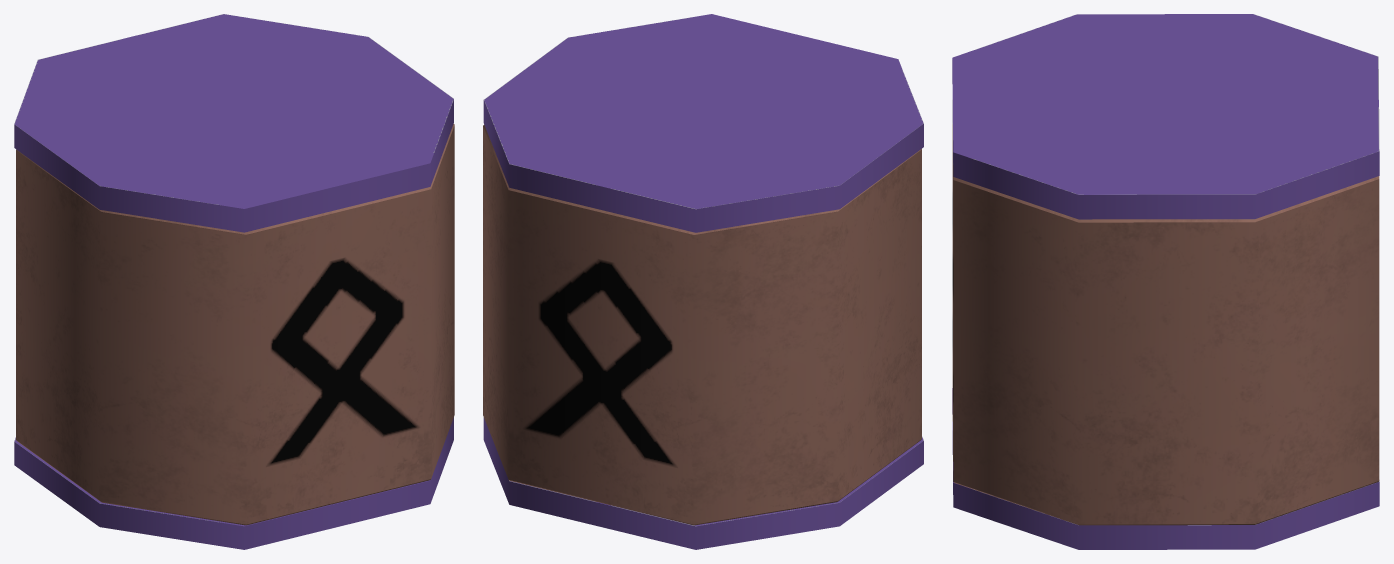
File: medio.fbx
The picture shows the model from 3 angles, left to right: view 1: azimuth 30°, elevation 25°; view 2: azimuth 150°, elevation 25°; view 3: azimuth 270°, elevation 25°; orthographic projection. The views are drawn at different scales.
Parts seen in each view (by area): view 1: Cuerpo, Circle.001, Circle.002; view 2: Cuerpo, Circle.001, Circle.002; view 3: Cuerpo, Circle.001, Circle.002.
Part boxes in pixels (x1=…): Cuerpo: x1=16, y1=124, x2=454, y2=525; Circle.001: x1=14, y1=14, x2=453, y2=232; Circle.002: x1=14, y1=417, x2=453, y2=549; Cuerpo: x1=483, y1=125, x2=921, y2=525; Circle.001: x1=483, y1=14, x2=923, y2=232; Circle.002: x1=483, y1=417, x2=923, y2=549; Cuerpo: x1=952, y1=124, x2=1379, y2=525; Circle.001: x1=952, y1=14, x2=1379, y2=219; Circle.002: x1=952, y1=388, x2=1379, y2=549.
Size of the model in its own units: 261 by 240 by 259.
